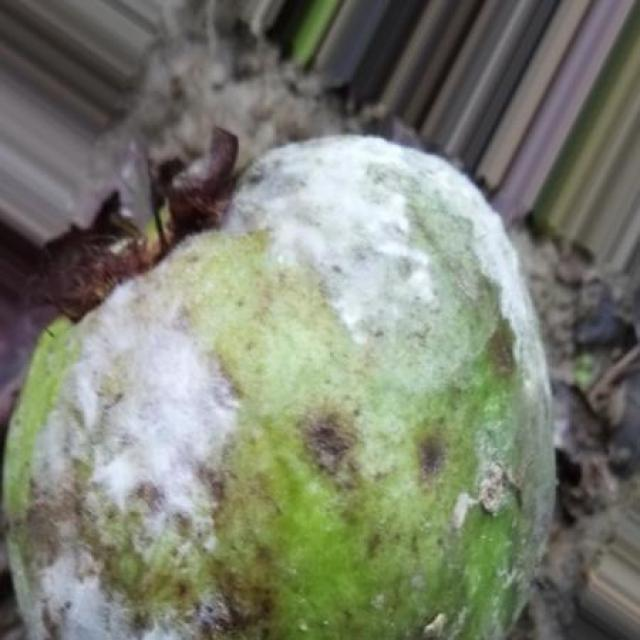Phytopthora: (5, 136, 551, 640)
